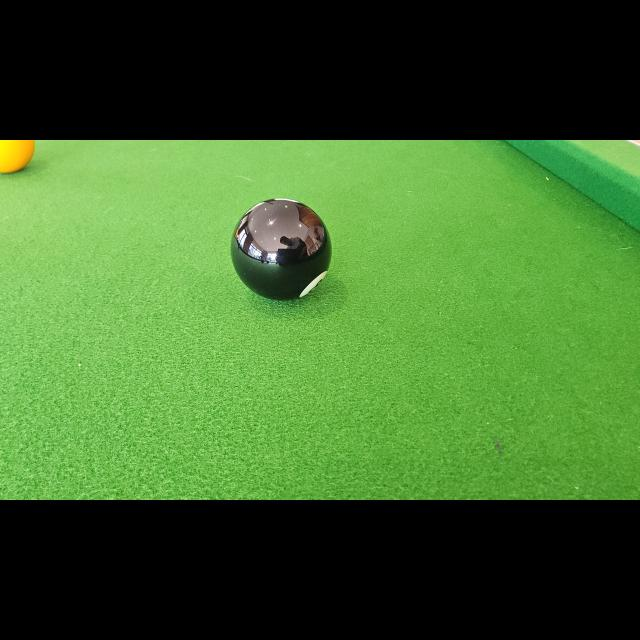Ball: (230, 197, 332, 301), (0, 140, 36, 174)
